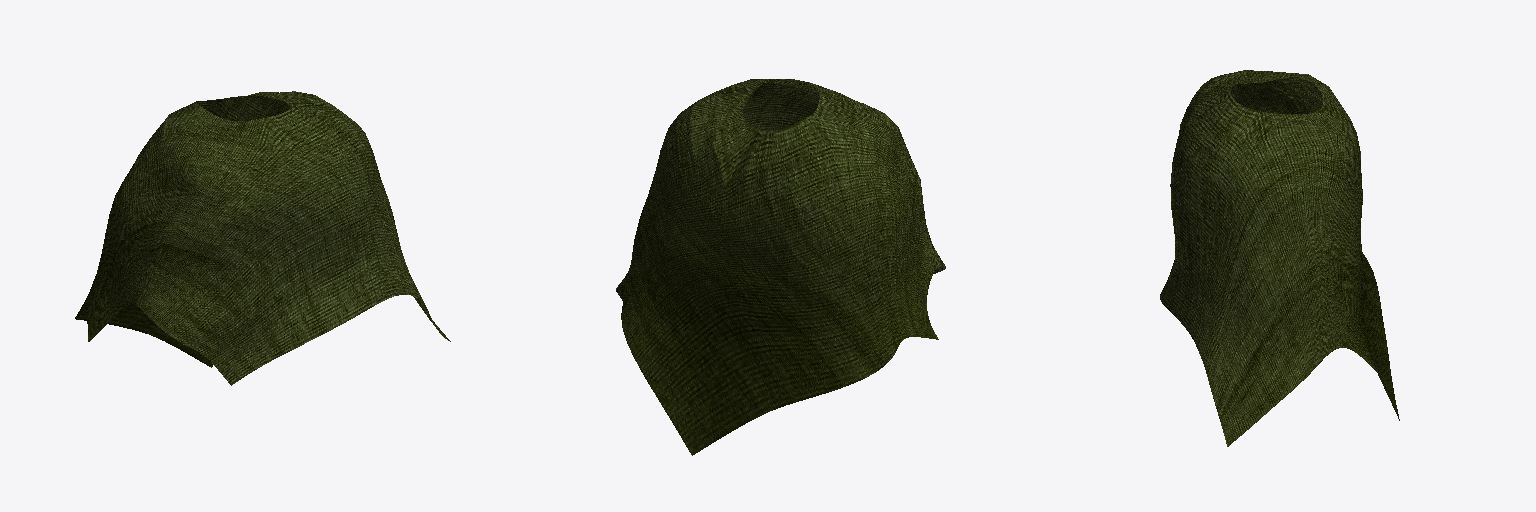
3 renders of one model, left to right at view 1: azimuth 30°, elevation 25°; view 2: azimuth 150°, elevation 25°; view 3: azimuth 270°, elevation 25°, orthographic.
Visible parts, largest first — view 1: Plane.001_Plane.005; view 2: Plane.001_Plane.005; view 3: Plane.001_Plane.005.
Part boxes in pixels (x1,y1,x2,y2): Plane.001_Plane.005: (75,91,450,385); Plane.001_Plane.005: (616,79,945,455); Plane.001_Plane.005: (1160,70,1399,446).
Bounding box in the file's own units: 1.51 × 1.36 × 0.9286.
1 materials, 1 textured.